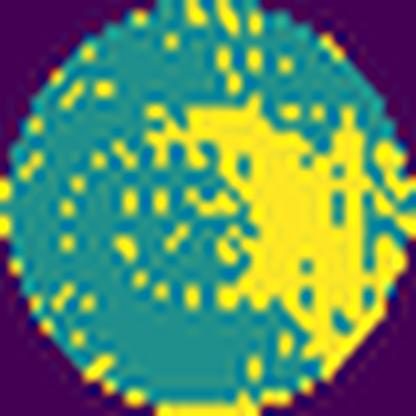Loc: (148, 96, 408, 381)
